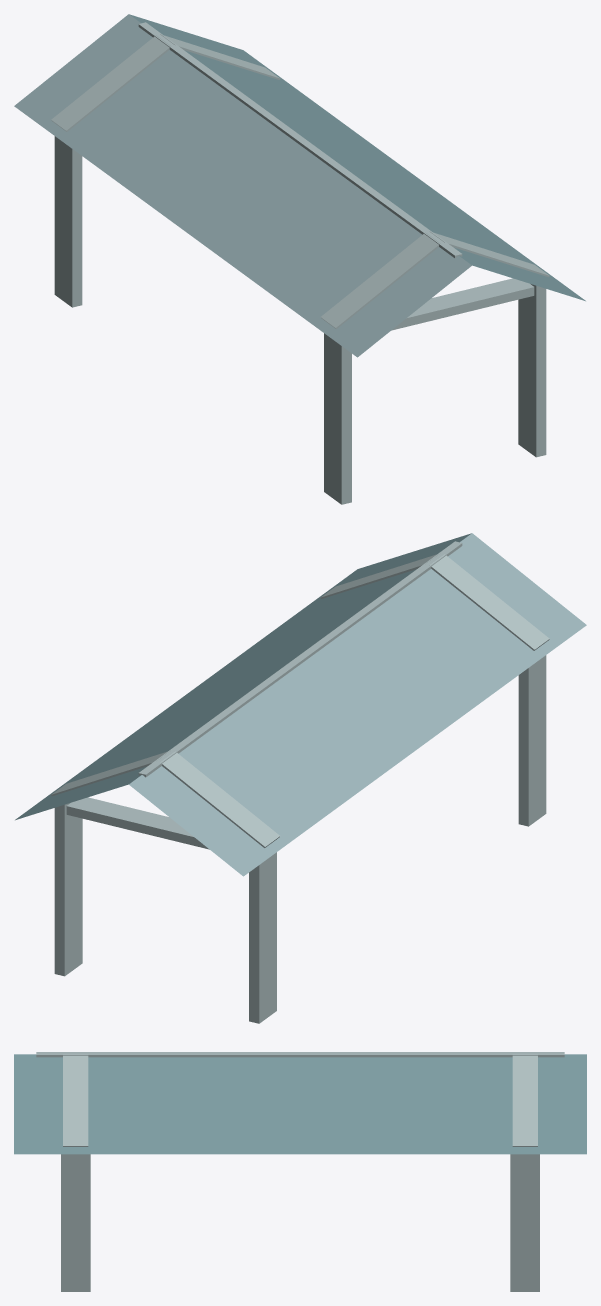
Rendered from shelter.glb.
The picture shows the model from 3 angles, top to bottom: view 1: azimuth 30°, elevation 25°; view 2: azimuth 150°, elevation 25°; view 3: azimuth 270°, elevation 25°; orthographic projection. The views are drawn at different scales.
Parts seen in each view (by area): view 1: Pitched roof left, Pitched roof right, Corner post.002, Corner post.001, Corner post, Ridge beam, Gable tie beam, Left gable rafter.001, Left gable rafter, Right gable rafter.001, Right gable rafter; view 2: Pitched roof left, Pitched roof right, Corner post.003, Corner post, Corner post.001, Ridge beam, Gable tie beam.001, Left gable rafter, Left gable rafter.001, Right gable rafter, Right gable rafter.001; view 3: Pitched roof right, Corner post.002, Corner post.003, Ridge beam, Right gable rafter, Right gable rafter.001.
Boxes of the visible parts, left/top/right/bottom form: Pitched roof left: left=14, top=14, right=471, bottom=357; Pitched roof right: left=129, top=14, right=585, bottom=301; Corner post.002: left=518, top=284, right=546, bottom=457; Corner post.001: left=54, top=136, right=82, bottom=307; Corner post: left=324, top=333, right=351, bottom=504; Ridge beam: left=138, top=22, right=462, bottom=258; Gable tie beam: left=391, top=278, right=534, bottom=330; Left gable rafter.001: left=51, top=35, right=170, bottom=131; Left gable rafter: left=321, top=232, right=440, bottom=328; Right gable rafter.001: left=160, top=34, right=280, bottom=79; Right gable rafter: left=430, top=231, right=549, bottom=277; Pitched roof left: left=129, top=533, right=586, bottom=876; Pitched roof right: left=15, top=533, right=471, bottom=820; Corner post.003: left=54, top=803, right=82, bottom=976; Corner post: left=518, top=655, right=546, bottom=826; Corner post.001: left=249, top=852, right=276, bottom=1023; Ridge beam: left=138, top=541, right=462, bottom=777; Gable tie beam.001: left=66, top=797, right=209, bottom=849; Left gable rafter: left=430, top=554, right=549, bottom=650; Left gable rafter.001: left=160, top=751, right=279, bottom=847; Right gable rafter: left=320, top=553, right=440, bottom=598; Right gable rafter.001: left=51, top=750, right=170, bottom=796; Pitched roof right: left=14, top=1054, right=586, bottom=1154; Corner post.002: left=61, top=1154, right=90, bottom=1291; Corner post.003: left=510, top=1154, right=539, bottom=1291; Ridge beam: left=36, top=1052, right=564, bottom=1057; Right gable rafter: left=63, top=1054, right=88, bottom=1146; Right gable rafter.001: left=512, top=1054, right=537, bottom=1146.
Size of the model in its own units: 2.36 by 2.32 by 6.12.
